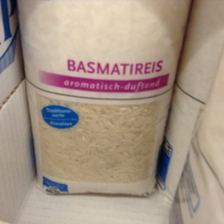rice: (16, 1, 192, 198)
